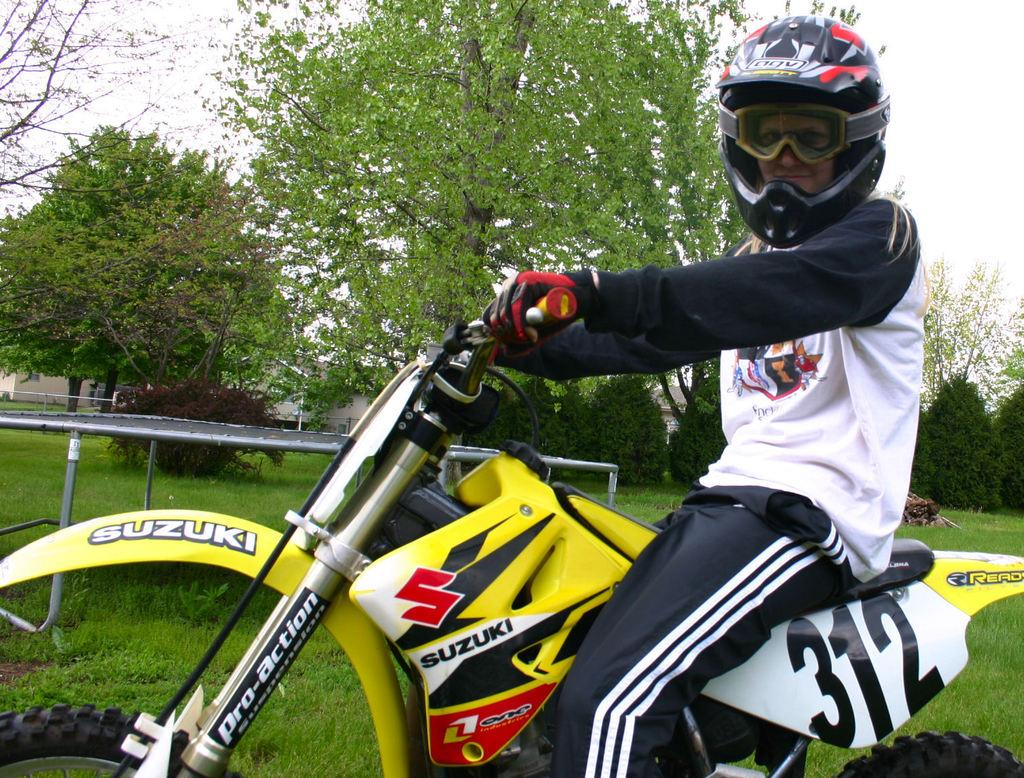helmet: (714, 14, 890, 249)
